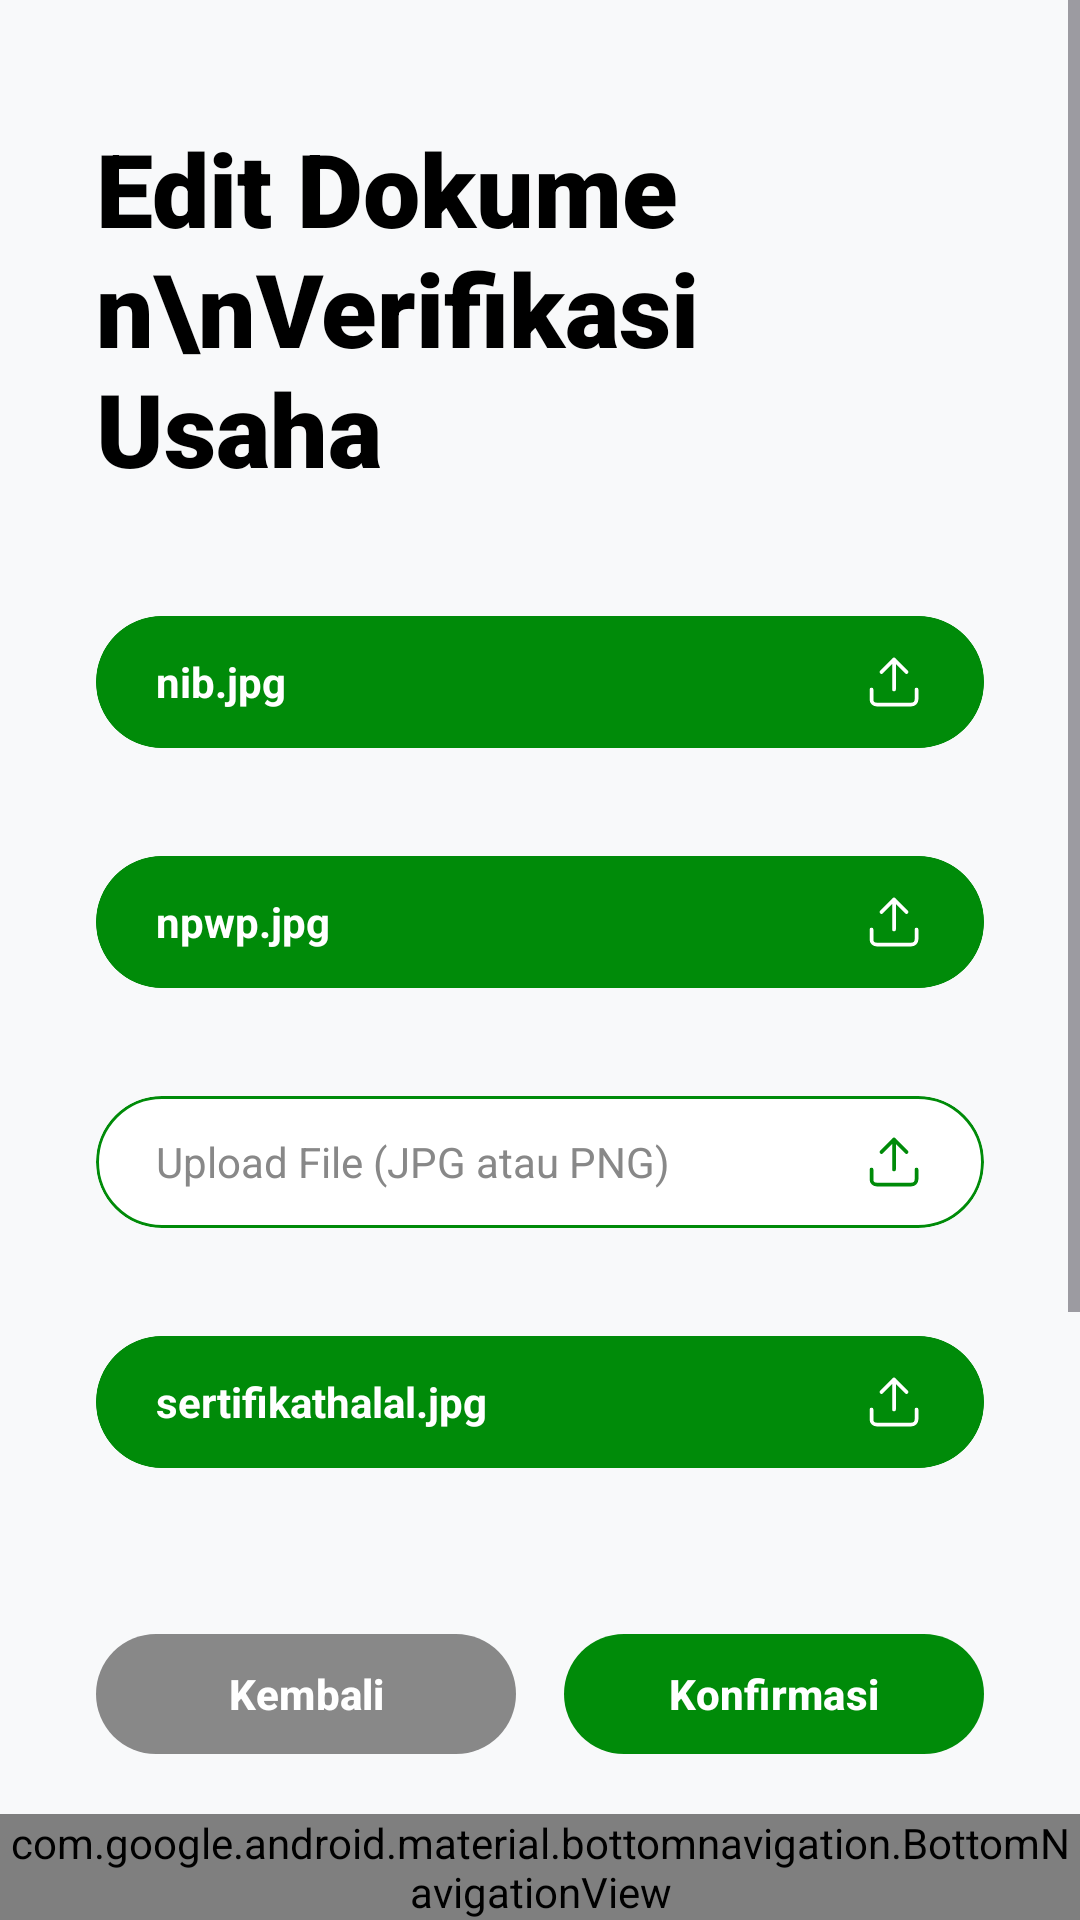

Point at icon controls on the screen. Image size 1080w x 1920h, points as point (x, y).
upload: point (894, 682), point (894, 922), point (894, 1162), point (894, 1402)
